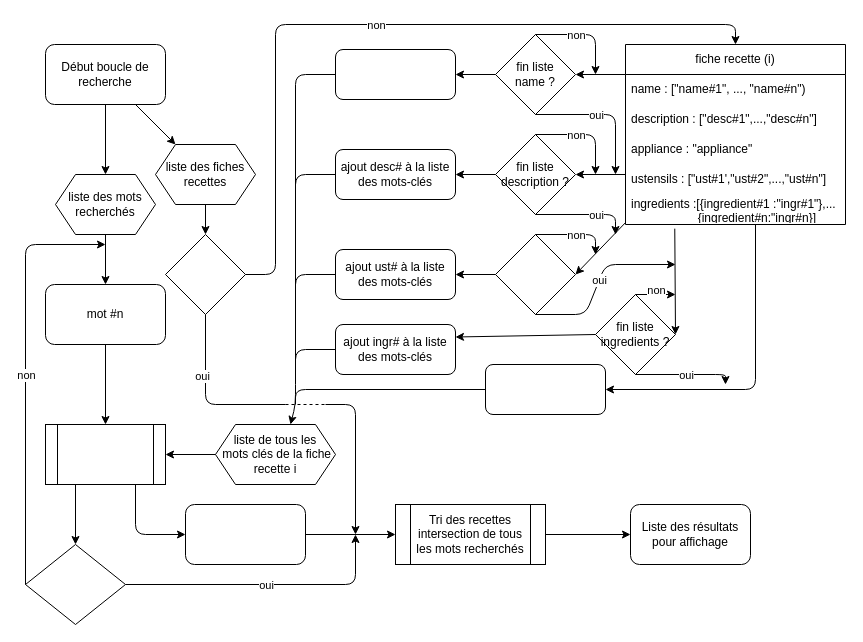
Some shapes in this 863 by 642 pixel diagram are drawn without their labels. The centre of each missing label's shape, as x and y in pixels:
"ajout appliance à la liste des mots-clés" belongs at pixel 545 389.
"ajout name# à la liste des mots-clés" belongs at pixel 395 74.
"comparaison mot#n / liste des mots-clés" belongs at pixel 105 454.
"fin de la liste ?" belongs at pixel 205 274.
"fin de la liste des mots recherchés ?" belongs at pixel 75 584.
"fin liste ustensils ?" belongs at pixel 535 274.
"liste des fiches recettes pour mot#n" belongs at pixel 245 534.
